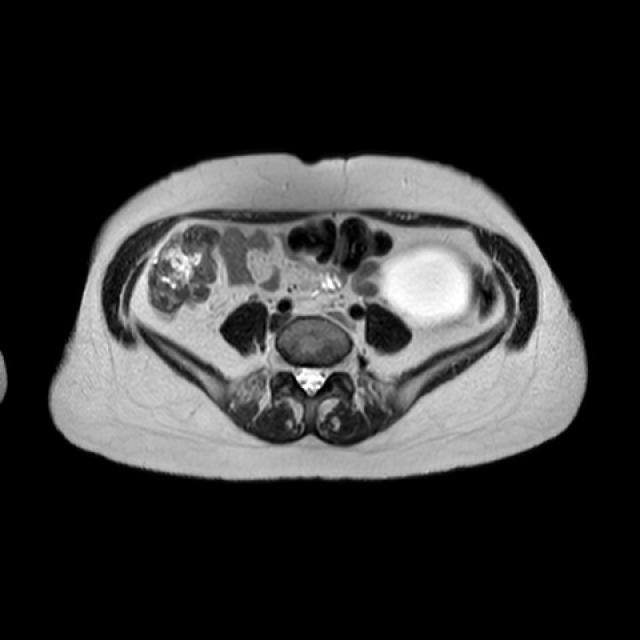sol: (377, 240, 474, 331)
